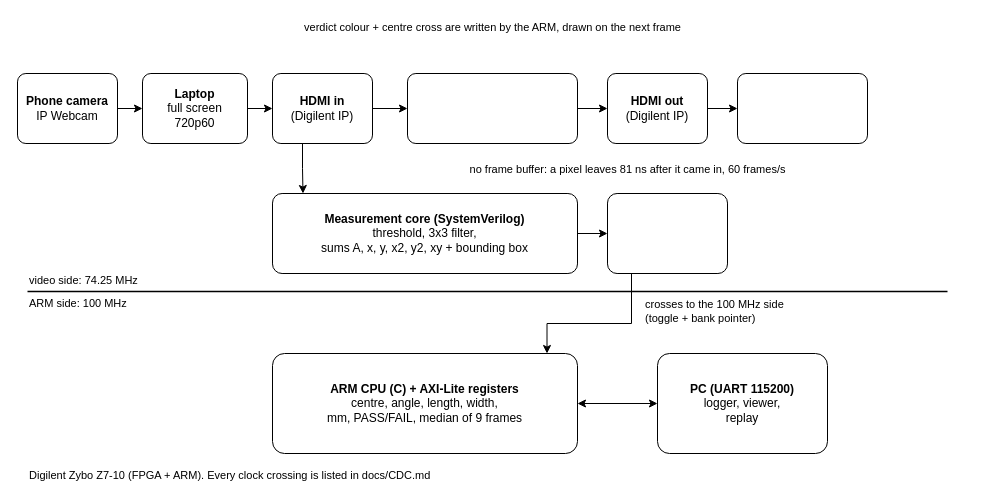
The diagram is 991 pixels wide and 503 high, and some of its shapes have lost their labels. The centre of each missing label's shape, as x and y in pixels:
"Monitor picture + result" goes at [802,108].
"Overlay frame, box, cross, binary view" goes at [492,108].
"Result banks 2 banks" goes at [667,233].
